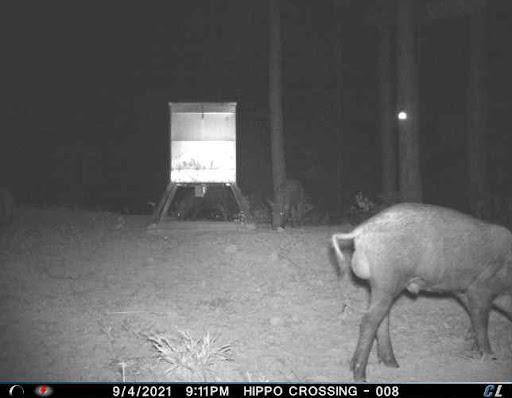Hog: (327, 200, 512, 386), (258, 172, 319, 236), (176, 183, 242, 227)
